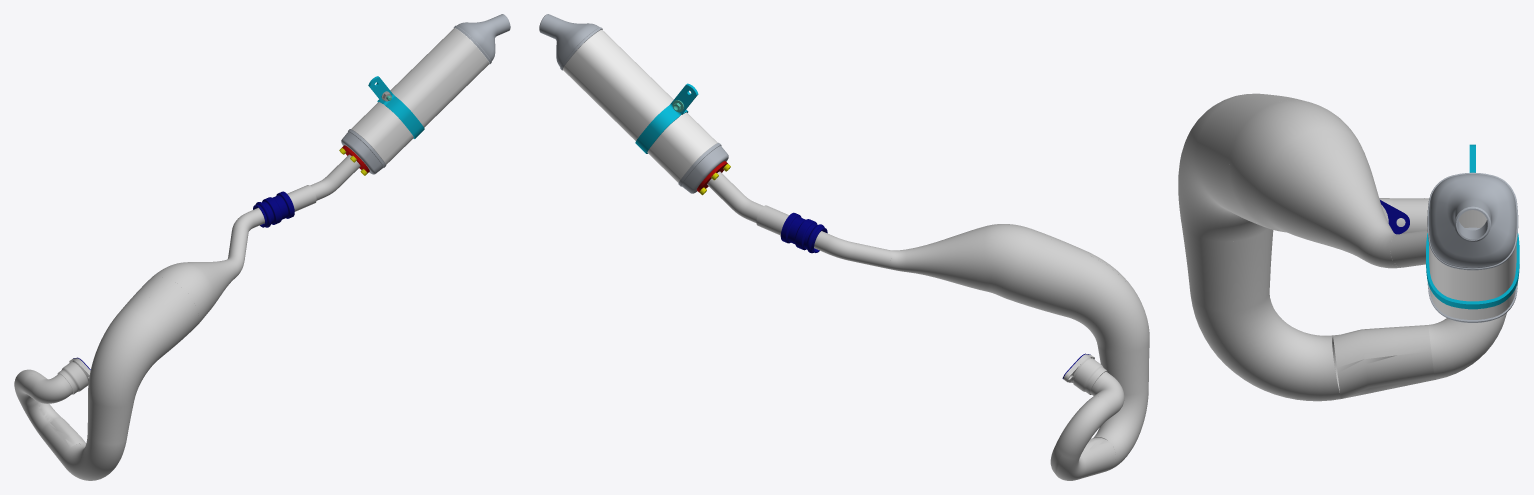
File: Exhaust Origin.fbx
The picture shows the model from 3 angles, left to right: view 1: azimuth 30°, elevation 25°; view 2: azimuth 150°, elevation 25°; view 3: azimuth 270°, elevation 25°; orthographic projection. The views are drawn at different scales.
Parts seen in each view (by area): view 1: 21, 4, 6, 2, 8, 5, 19, 35, 11, 1, 33, 25 (+3 smaller); view 2: 5, 21, 3, 8, 6, 2, 19, 1, 35, 33, 25, 18 (+2 smaller); view 3: 2, 7, 8, 4, 19, 21, 35, 1, 3, 11, 5, 14 (+2 smaller).
Boxes of the visible parts, x1,y1,x2,y2 form: 21: [351, 28, 489, 164]; 4: [97, 279, 198, 407]; 6: [63, 397, 122, 480]; 2: [151, 253, 244, 325]; 8: [14, 369, 86, 465]; 5: [88, 276, 167, 403]; 19: [453, 14, 510, 64]; 35: [368, 76, 424, 138]; 11: [23, 373, 71, 399]; 1: [228, 207, 264, 259]; 33: [253, 191, 294, 227]; 25: [310, 154, 360, 200]; 5: [1007, 231, 1149, 352]; 21: [562, 29, 717, 182]; 3: [885, 247, 1022, 298]; 8: [1050, 396, 1115, 480]; 6: [1100, 343, 1149, 470]; 2: [889, 224, 1031, 257]; 19: [539, 14, 602, 70]; 1: [814, 231, 891, 268]; 35: [635, 83, 698, 153]; 33: [780, 212, 827, 253]; 25: [707, 171, 763, 222]; 18: [678, 142, 728, 193]; 2: [1229, 100, 1397, 265]; 7: [1181, 223, 1340, 401]; 8: [1333, 198, 1506, 398]; 4: [1178, 95, 1279, 241]; 19: [1427, 172, 1518, 270]; 21: [1429, 210, 1516, 319]; 35: [1426, 144, 1519, 309]; 1: [1390, 230, 1427, 267]; 3: [1255, 123, 1400, 268]; 11: [1379, 198, 1423, 222]; 5: [1242, 93, 1305, 238]; 14: [1380, 200, 1409, 234].
Bounding box in the file's own units: 3.62 × 2.24 × 1.08.
